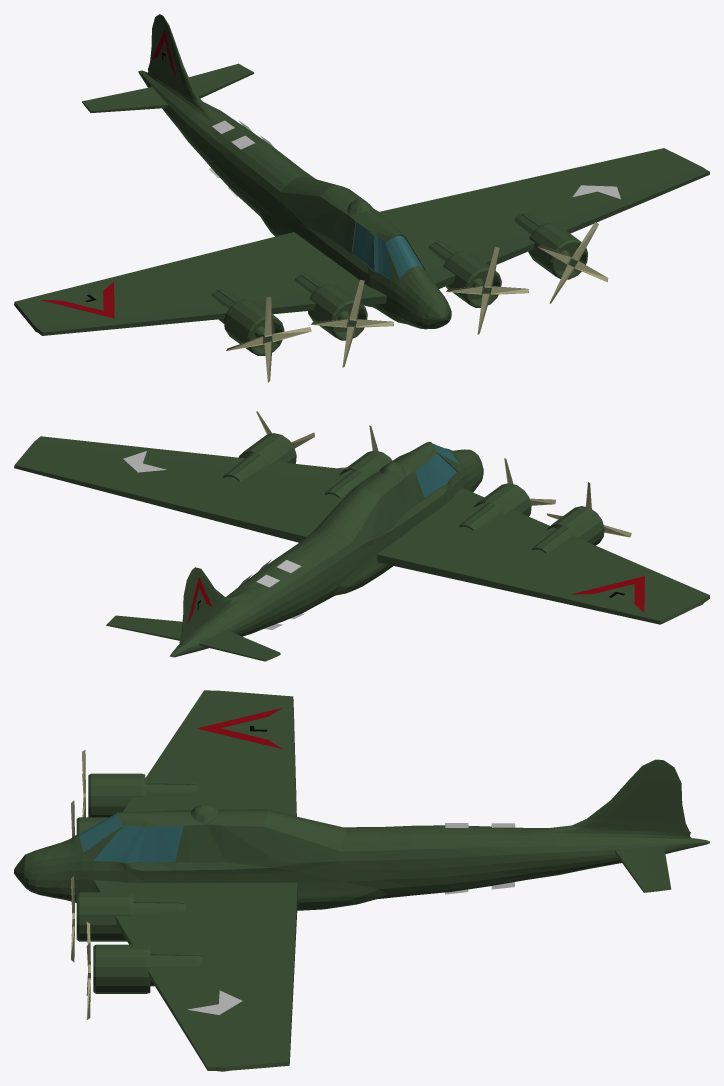
Rendered from Bomber.glb.
3 renders of one model, top to bottom at view 1: azimuth 30°, elevation 25°; view 2: azimuth 150°, elevation 25°; view 3: azimuth 270°, elevation 25°, orthographic. The views are drawn at different scales.
Parts seen in each view (by area): view 1: Body; view 2: Body; view 3: Body.
Boxes of the visible parts, x1,y1,x2,y2 form: Body: (14, 14, 709, 382); Body: (14, 411, 709, 661); Body: (14, 690, 709, 1071).
Size of the model in its own units: 3.71 by 0.7825 by 2.92.
